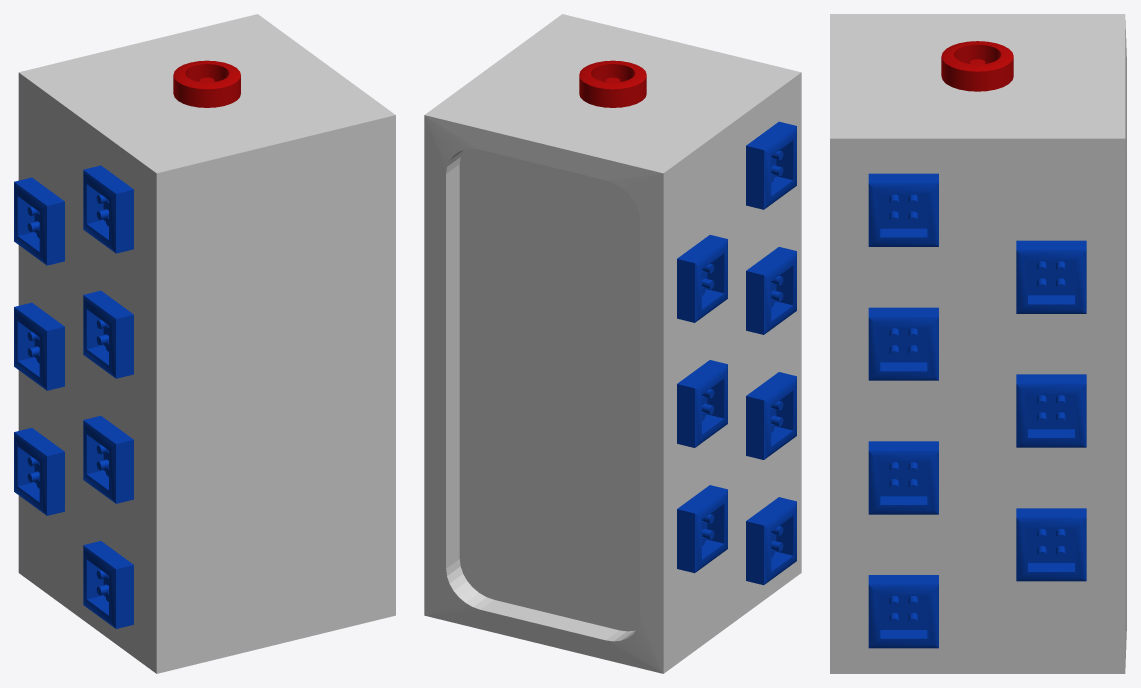
File: MiniRouter.gltf
The picture shows the model from 3 angles, left to right: view 1: azimuth 30°, elevation 25°; view 2: azimuth 150°, elevation 25°; view 3: azimuth 270°, elevation 25°; orthographic projection. The views are drawn at different scales.
Parts seen in each view (by area): view 1: base; view 2: base; view 3: base.
Part boxes in pixels (bbox=[...]): base: bbox=[14, 14, 395, 673]; base: bbox=[424, 14, 801, 673]; base: bbox=[830, 14, 1126, 673].
Size of the model in its own units: 0.2913 by 0.5204 by 0.2514.
